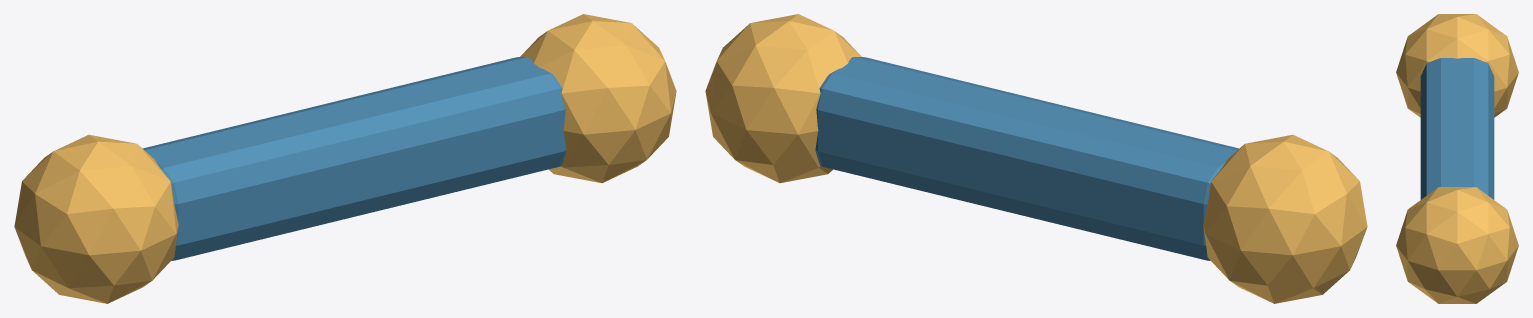
Rendered from pet-rope-cozy.glb.
3 views of the same model, side by side, from view 1: azimuth 30°, elevation 25°; view 2: azimuth 150°, elevation 25°; view 3: azimuth 270°, elevation 25° (orthographic). The views are drawn at different scales.
Visible parts, largest first — view 1: RopeCenter, RopeKnotL, RopeKnotR; view 2: RopeCenter, RopeKnotL, RopeKnotR; view 3: RopeKnotR, RopeCenter, RopeKnotL.
Boxes of the visible parts, box(x1,y1,x2,y2) form: RopeCenter: box(142, 57, 566, 260); RopeKnotL: box(14, 134, 178, 303); RopeKnotR: box(520, 14, 676, 183); RopeCenter: box(815, 57, 1239, 260); RopeKnotL: box(1203, 134, 1367, 303); RopeKnotR: box(705, 14, 861, 183); RopeKnotR: box(1396, 187, 1518, 303); RopeCenter: box(1420, 58, 1494, 199); RopeKnotL: box(1396, 14, 1518, 117).
Bounding box in the file's own units: 0.6427 × 0.15 × 0.15.
